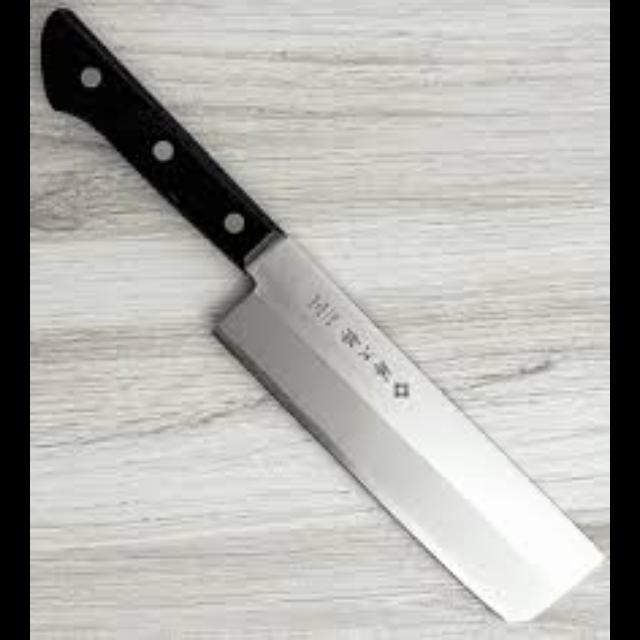knife: (38, 6, 608, 620)
